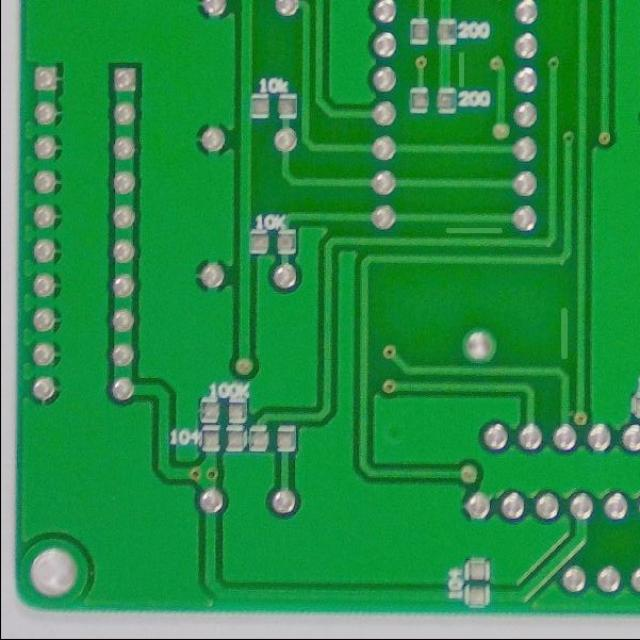spurious_copper: (439, 219, 508, 247), (549, 304, 576, 368), (447, 49, 471, 93)
